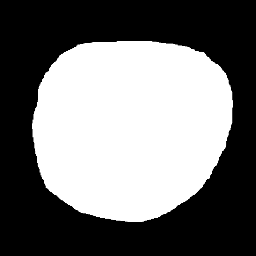mass: (34, 36, 231, 212)
